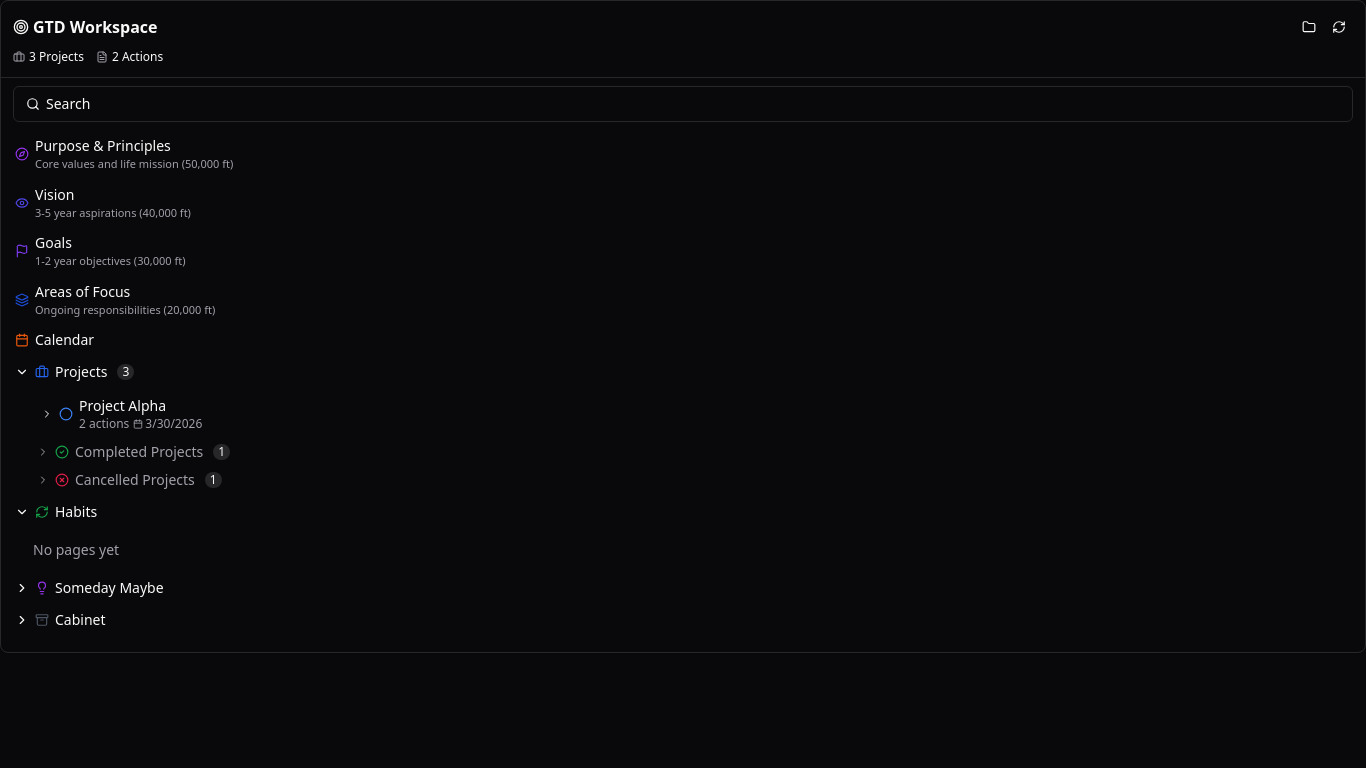
Scenario: GTDWorkspaceSidebar component › shows cross-section search results for projects, actions, and section files
This screenshot has width=1366, height=768.
Check: the text "Project Alpha" is shown, box top-left (79, 396), bottom-right (166, 415)
Step 1. Click the button "Search" → [68, 104], box top-left (13, 86), bottom-right (1353, 122)
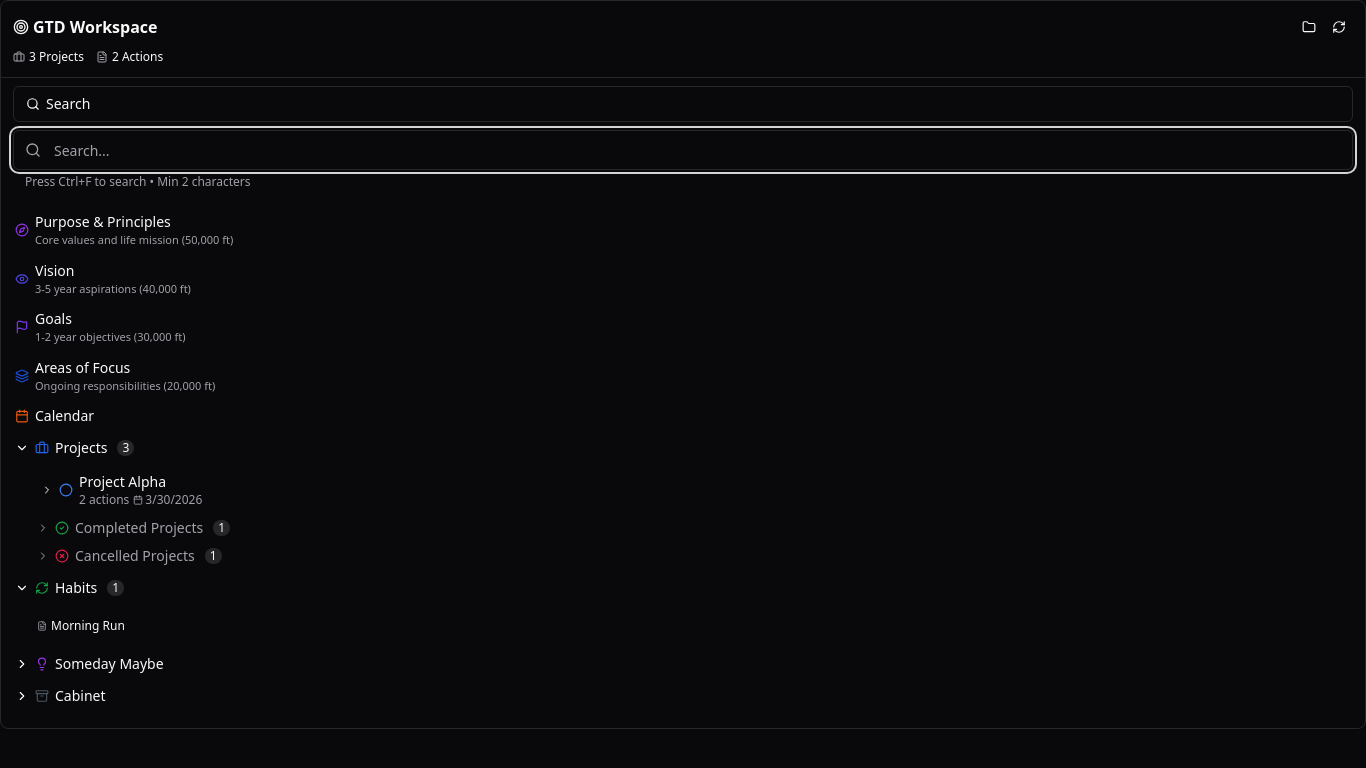
Step 2. Type "clean" into the search field with placeholder "Search..." → [683, 150], box top-left (13, 130), bottom-right (1353, 170)
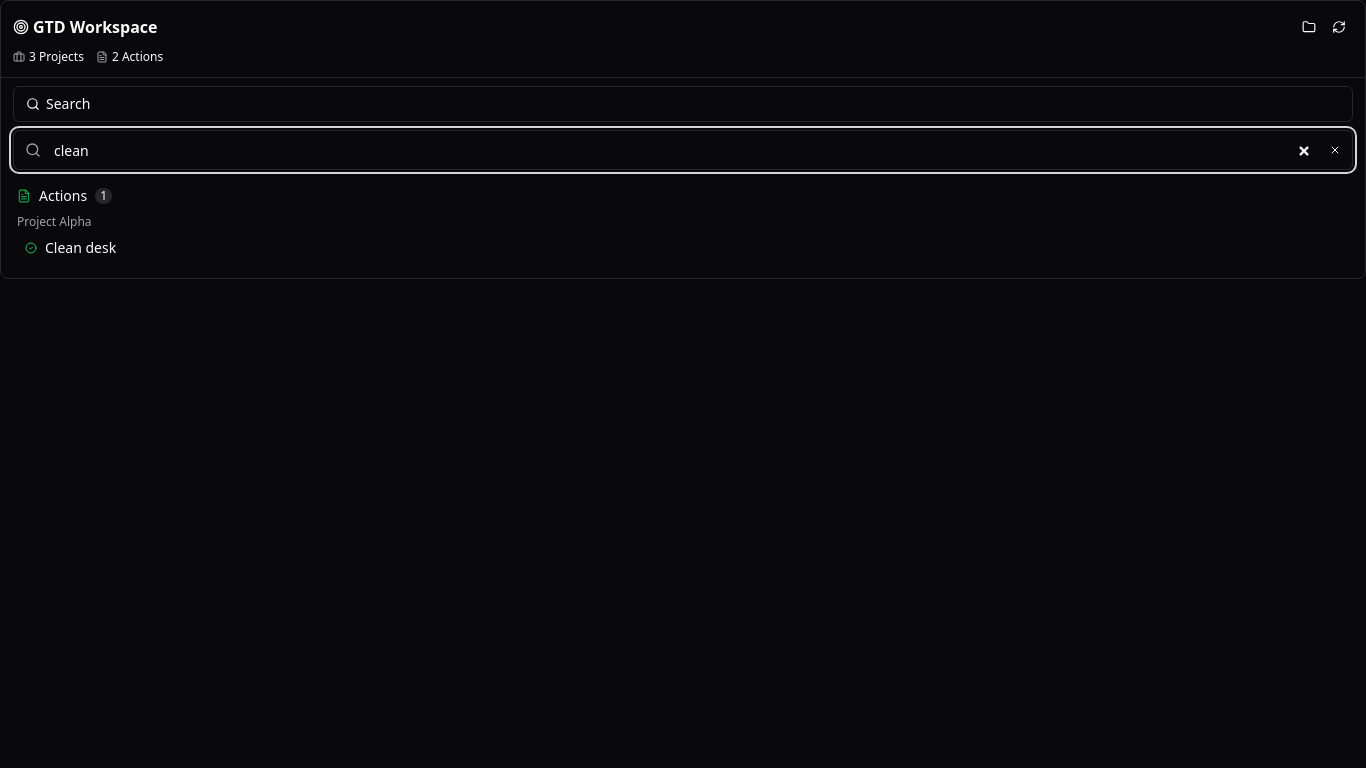
Check: the text "Actions" is shown, box top-left (39, 186), bottom-right (87, 206)
Check: the text "Clean desk" is shown, box top-left (45, 238), bottom-right (116, 258)
Step 3. Replace the text in the search field with placeholder "Search..." with "morning" → [683, 150], box top-left (13, 130), bottom-right (1353, 170)
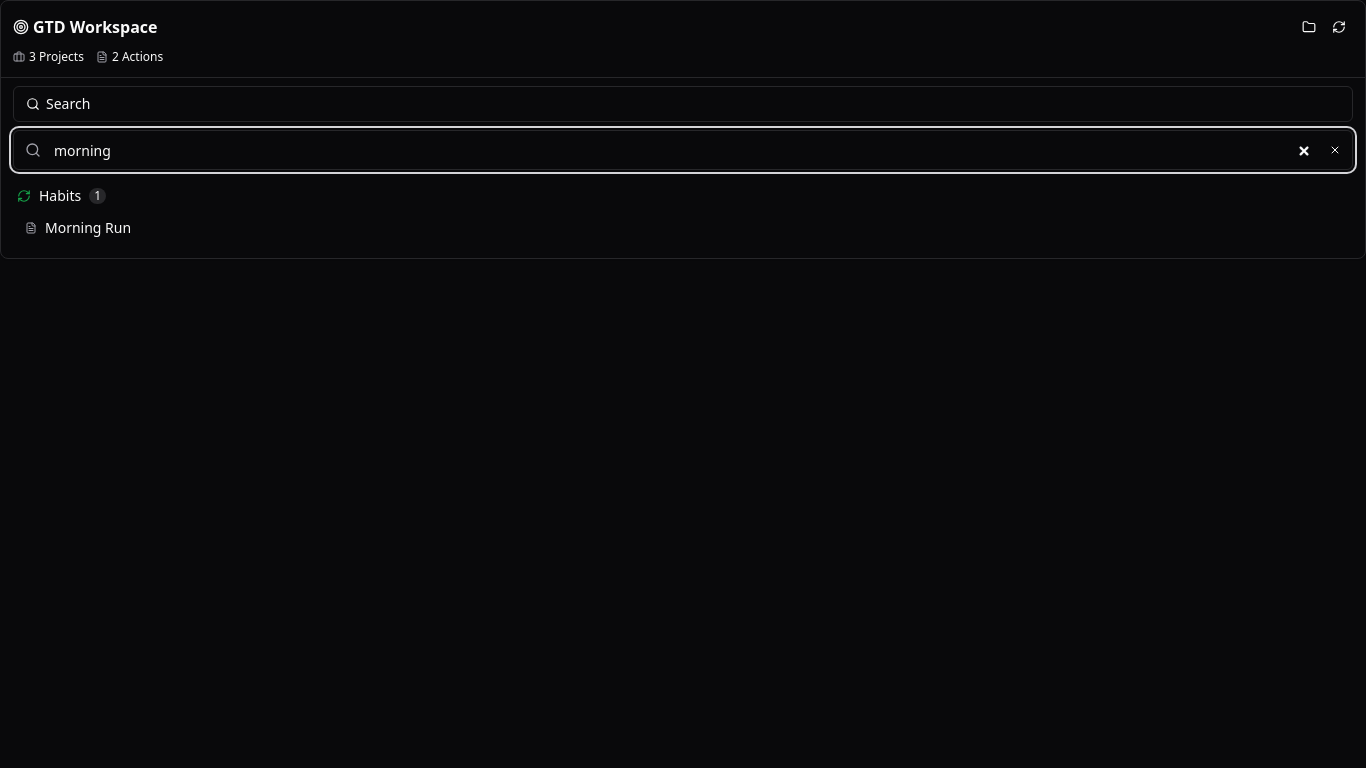
Check: the text "Habits" is shown, box top-left (39, 186), bottom-right (81, 206)
Check: the text "Morning Run" is shown, box top-left (45, 218), bottom-right (131, 238)
Step 4. Replace the text in the search field with placeholder "Search..." with "alpha" → [683, 150], box top-left (13, 130), bottom-right (1353, 170)
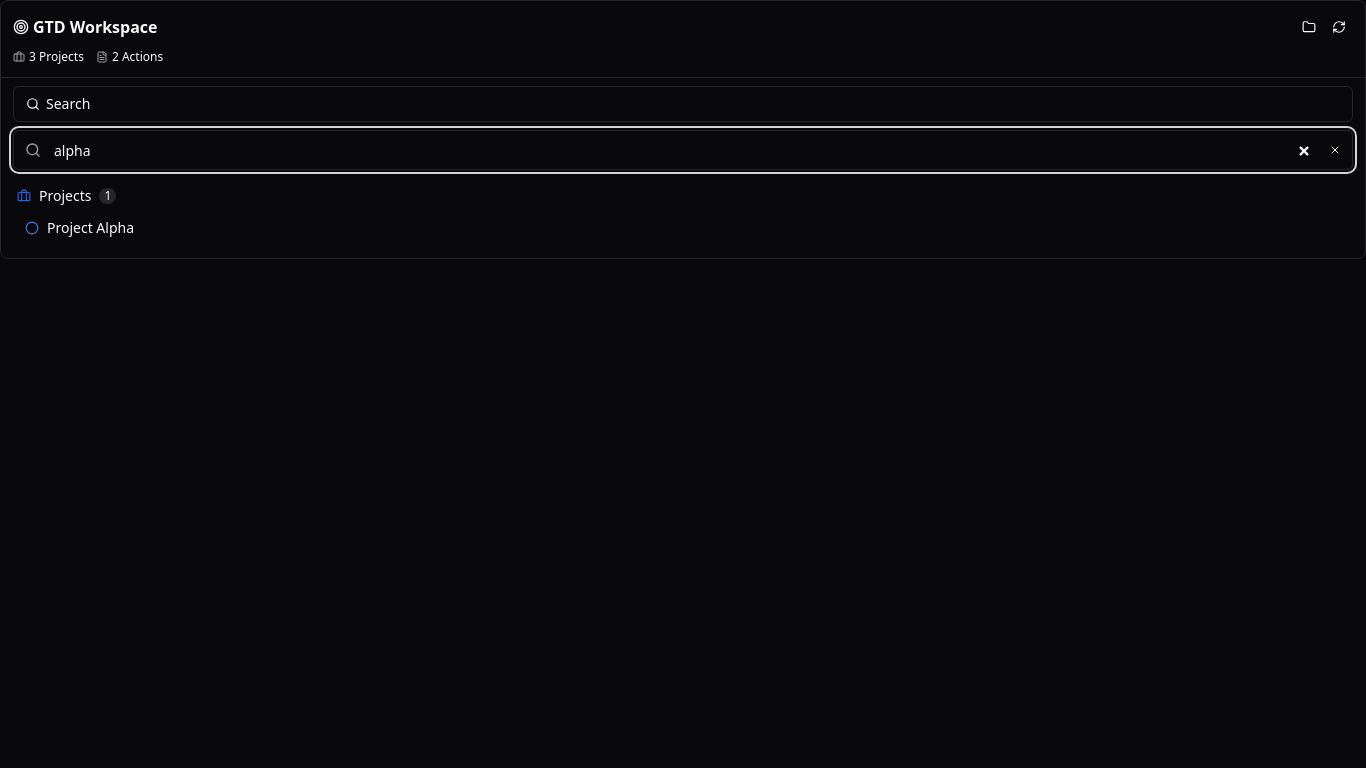
Check: the text "Projects" is shown, box top-left (39, 186), bottom-right (91, 206)
Check: the text "Project Alpha" is shown, box top-left (47, 218), bottom-right (134, 238)
